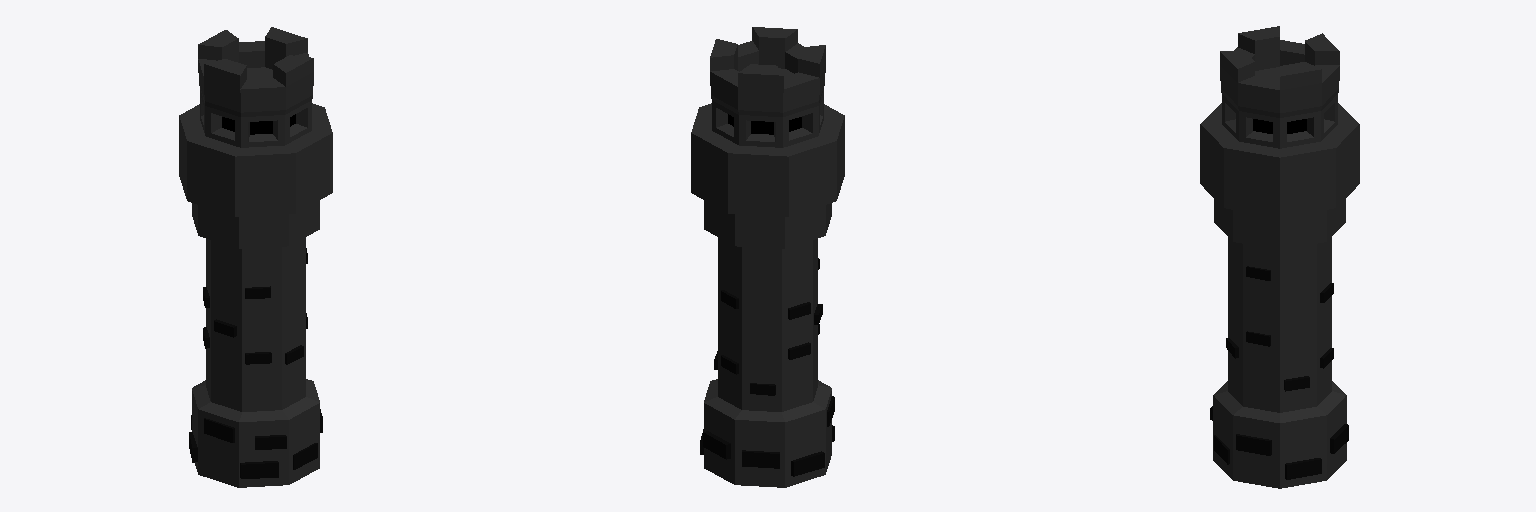
Rendered from tower.obj.
The picture shows the model from 3 angles: view 1: azimuth 30°, elevation 25°; view 2: azimuth 150°, elevation 25°; view 3: azimuth 270°, elevation 25°; orthographic projection.
Parts seen in each view (by area): view 1: Tower_Cylinder.004; view 2: Tower_Cylinder.004; view 3: Tower_Cylinder.004.
Part boxes in pixels (left/top/right/bottom): Tower_Cylinder.004: left=179, top=27, right=332, bottom=487; Tower_Cylinder.004: left=691, top=27, right=844, bottom=487; Tower_Cylinder.004: left=1200, top=26, right=1359, bottom=488.
Bounding box in the file's own units: 2.73 × 7.75 × 2.73.